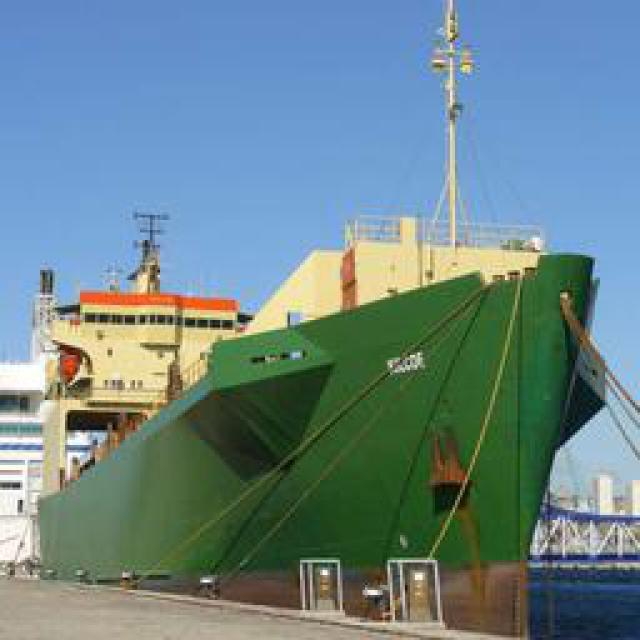Ship: (1, 1, 608, 631)
